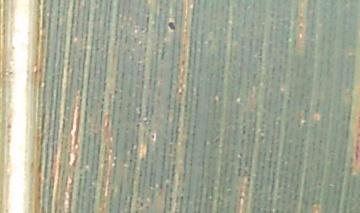tarspot: (164, 18, 180, 34)
